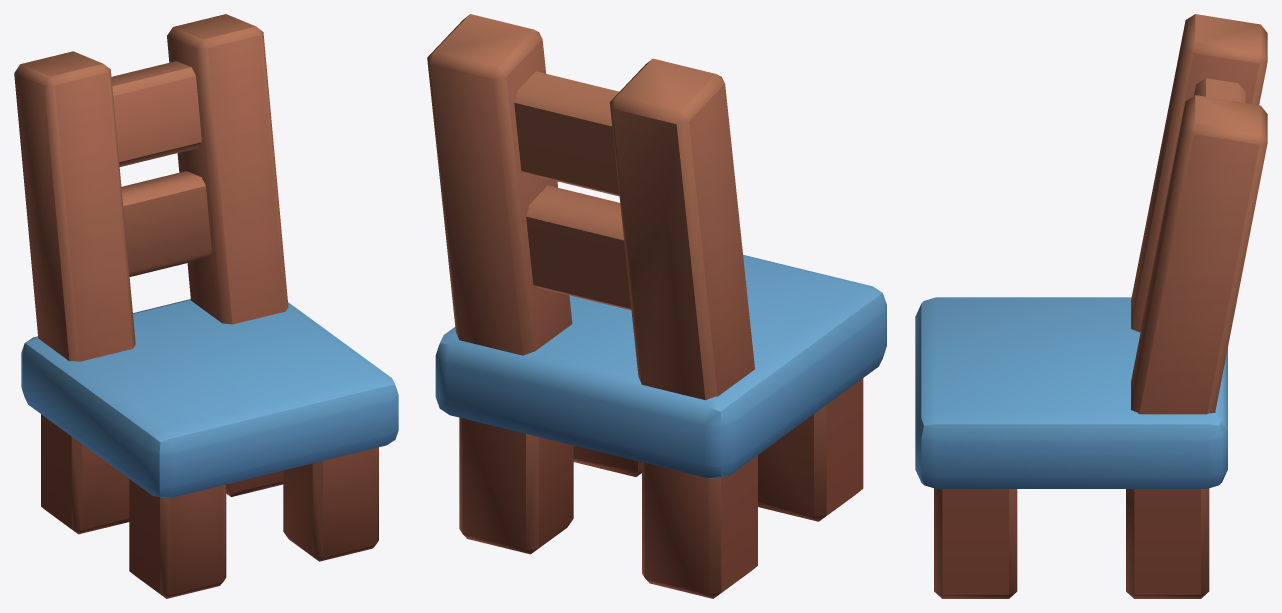
Rendered from chair-a.glb.
The picture shows the model from 3 angles, left to right: view 1: azimuth 30°, elevation 25°; view 2: azimuth 150°, elevation 25°; view 3: azimuth 270°, elevation 25°; orthographic projection. The views are drawn at different scales.
Parts seen in each view (by area): view 1: chair_A; view 2: chair_A; view 3: chair_A.
Boxes of the visible parts, box(x1,y1,x2,y2) form: chair_A: box(14, 14, 398, 598); chair_A: box(427, 14, 886, 598); chair_A: box(915, 14, 1267, 598).
Bounding box in the file's own units: 0.75 × 1.26 × 0.8451.
1 material, 1 textured.
